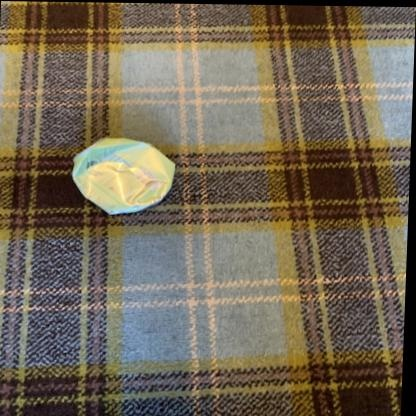trash: (72, 138, 174, 214)
